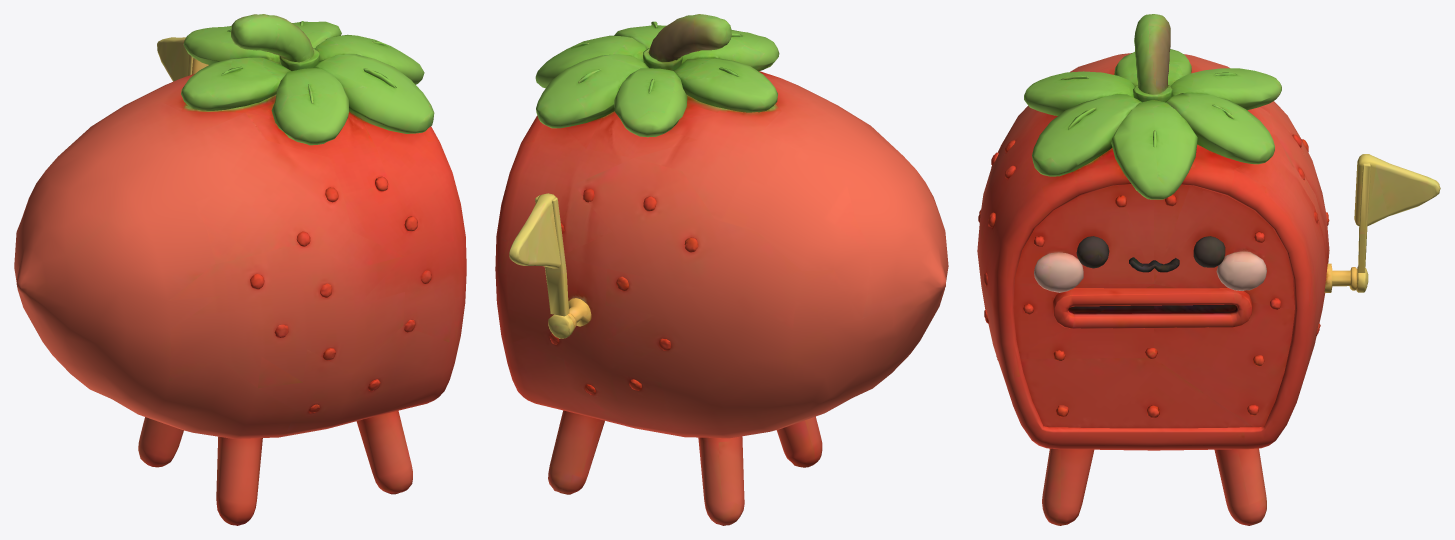
Rendered from strawberry-mailbox.glb.
3 views of the same model, side by side, from view 1: azimuth 30°, elevation 25°; view 2: azimuth 150°, elevation 25°; view 3: azimuth 270°, elevation 25° (orthographic).
Parts seen in each view (by area): view 1: tripo_node_06a71dd3-b1f8-44c6-a065-9a94355fc75d; view 2: tripo_node_06a71dd3-b1f8-44c6-a065-9a94355fc75d; view 3: tripo_node_06a71dd3-b1f8-44c6-a065-9a94355fc75d.
Boxes of the visible parts, x1=… form: tripo_node_06a71dd3-b1f8-44c6-a065-9a94355fc75d: x1=14, y1=14, x2=466, y2=525; tripo_node_06a71dd3-b1f8-44c6-a065-9a94355fc75d: x1=495, y1=14, x2=948, y2=525; tripo_node_06a71dd3-b1f8-44c6-a065-9a94355fc75d: x1=977, y1=14, x2=1440, y2=525.
Bounding box in the file's own units: 0.9122 × 0.998 × 0.9122.
Materials: 1 (1 with a texture image).
